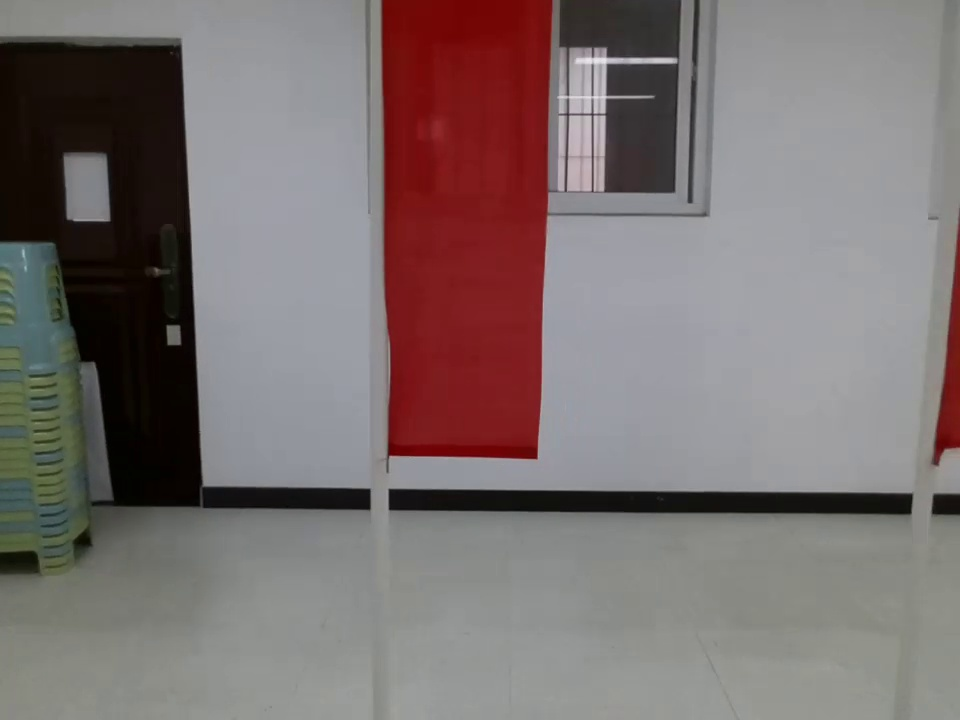qi: (365, 1, 569, 460)
